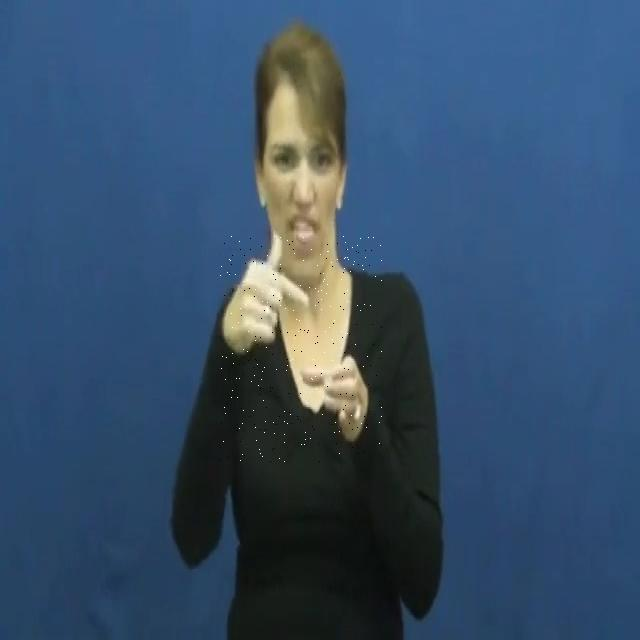straw: (220, 236, 382, 462)
